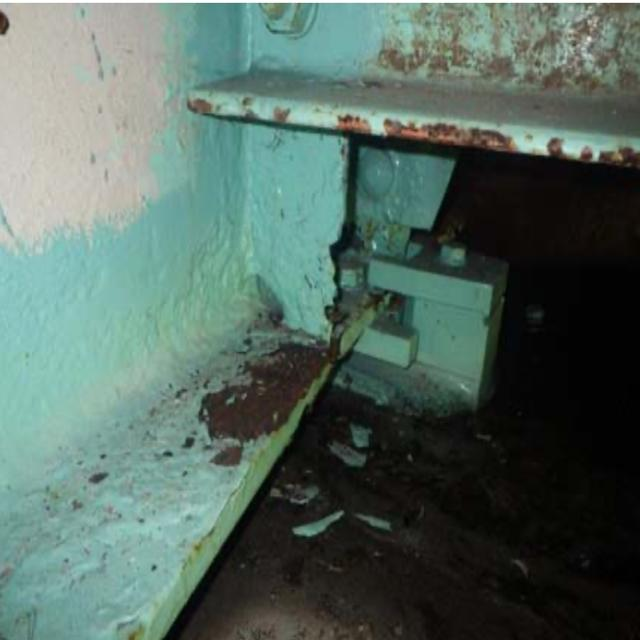corrosion: (202, 28, 632, 195), (189, 272, 344, 452)
